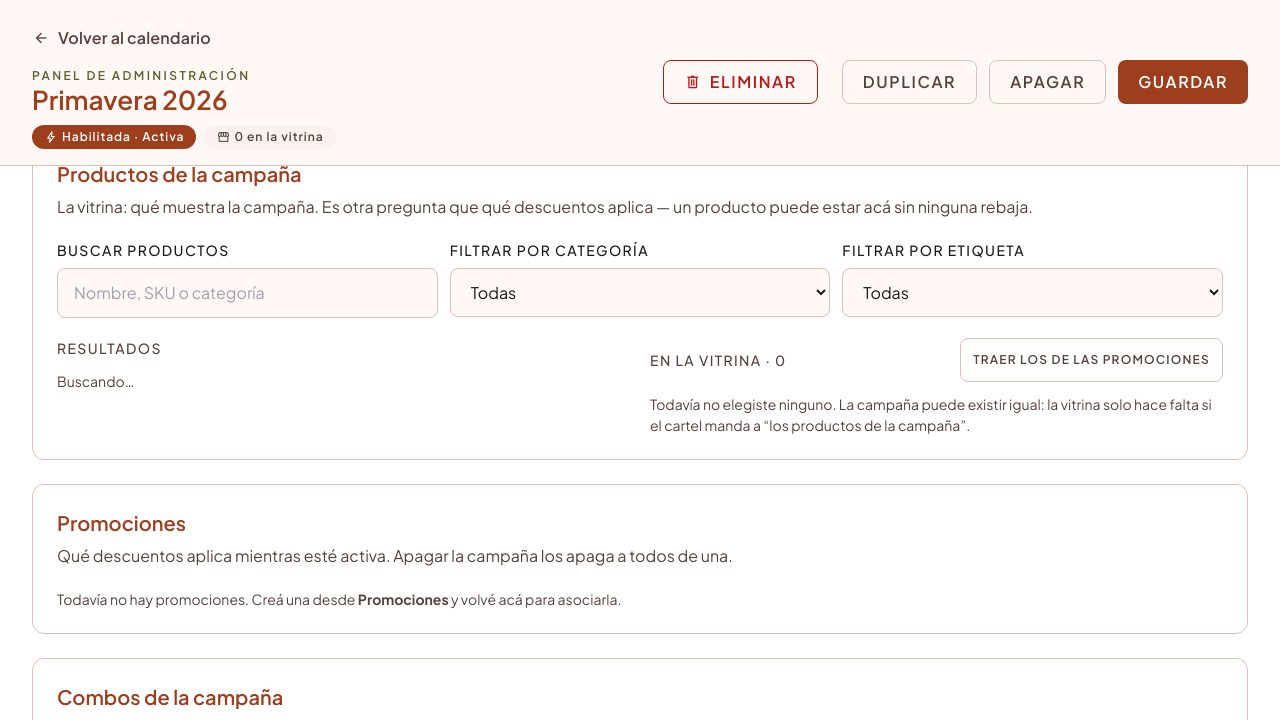
Scenario: AdminCampaniaEditor — «Traer los de las promociones» › un fallo al traer una promoción muestra el motivo JUNTO al botón
The image size is (1280, 720).
(page scrolled)
Click the button "Traer los de las promociones": (1092, 360) [960, 338, 1223, 382]
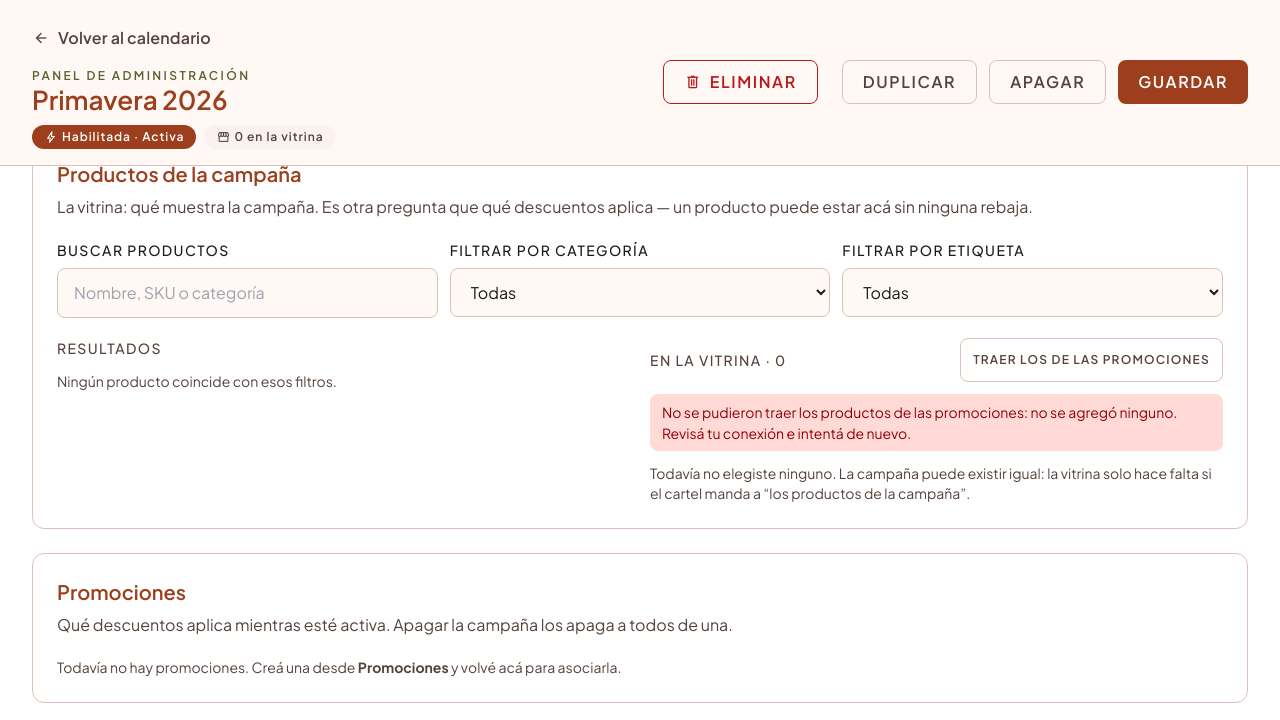
Check: the text "no se agregó ninguno" is shown, box [662, 403, 1177, 442]
